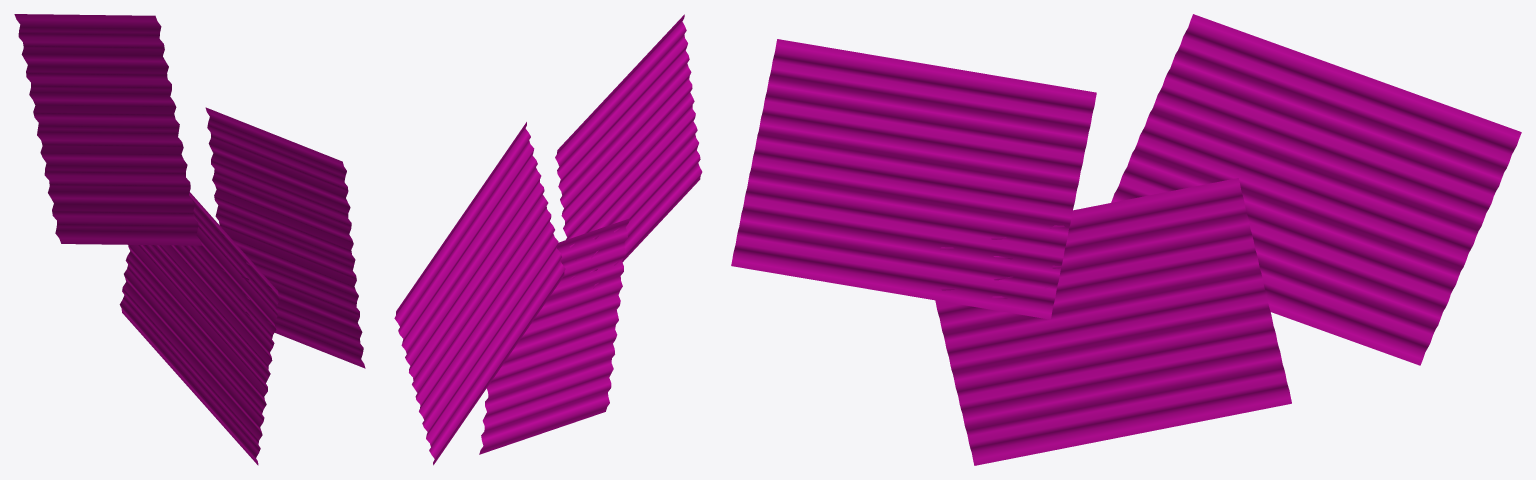
File: WallShort_sheets.fbx
The picture shows the model from 3 angles, left to right: view 1: azimuth 30°, elevation 25°; view 2: azimuth 150°, elevation 25°; view 3: azimuth 270°, elevation 25°; orthographic projection. The views are drawn at different scales.
Visible parts, largest first — view 1: WallShort_Sheets; view 2: WallShort_Sheets; view 3: WallShort_Sheets.
Part boxes in pixels (bbox=[...]): WallShort_Sheets: bbox=[14, 14, 365, 465]; WallShort_Sheets: bbox=[394, 14, 702, 465]; WallShort_Sheets: bbox=[731, 14, 1521, 465].
Size of the model in its own units: 16.6 by 486 by 779.
